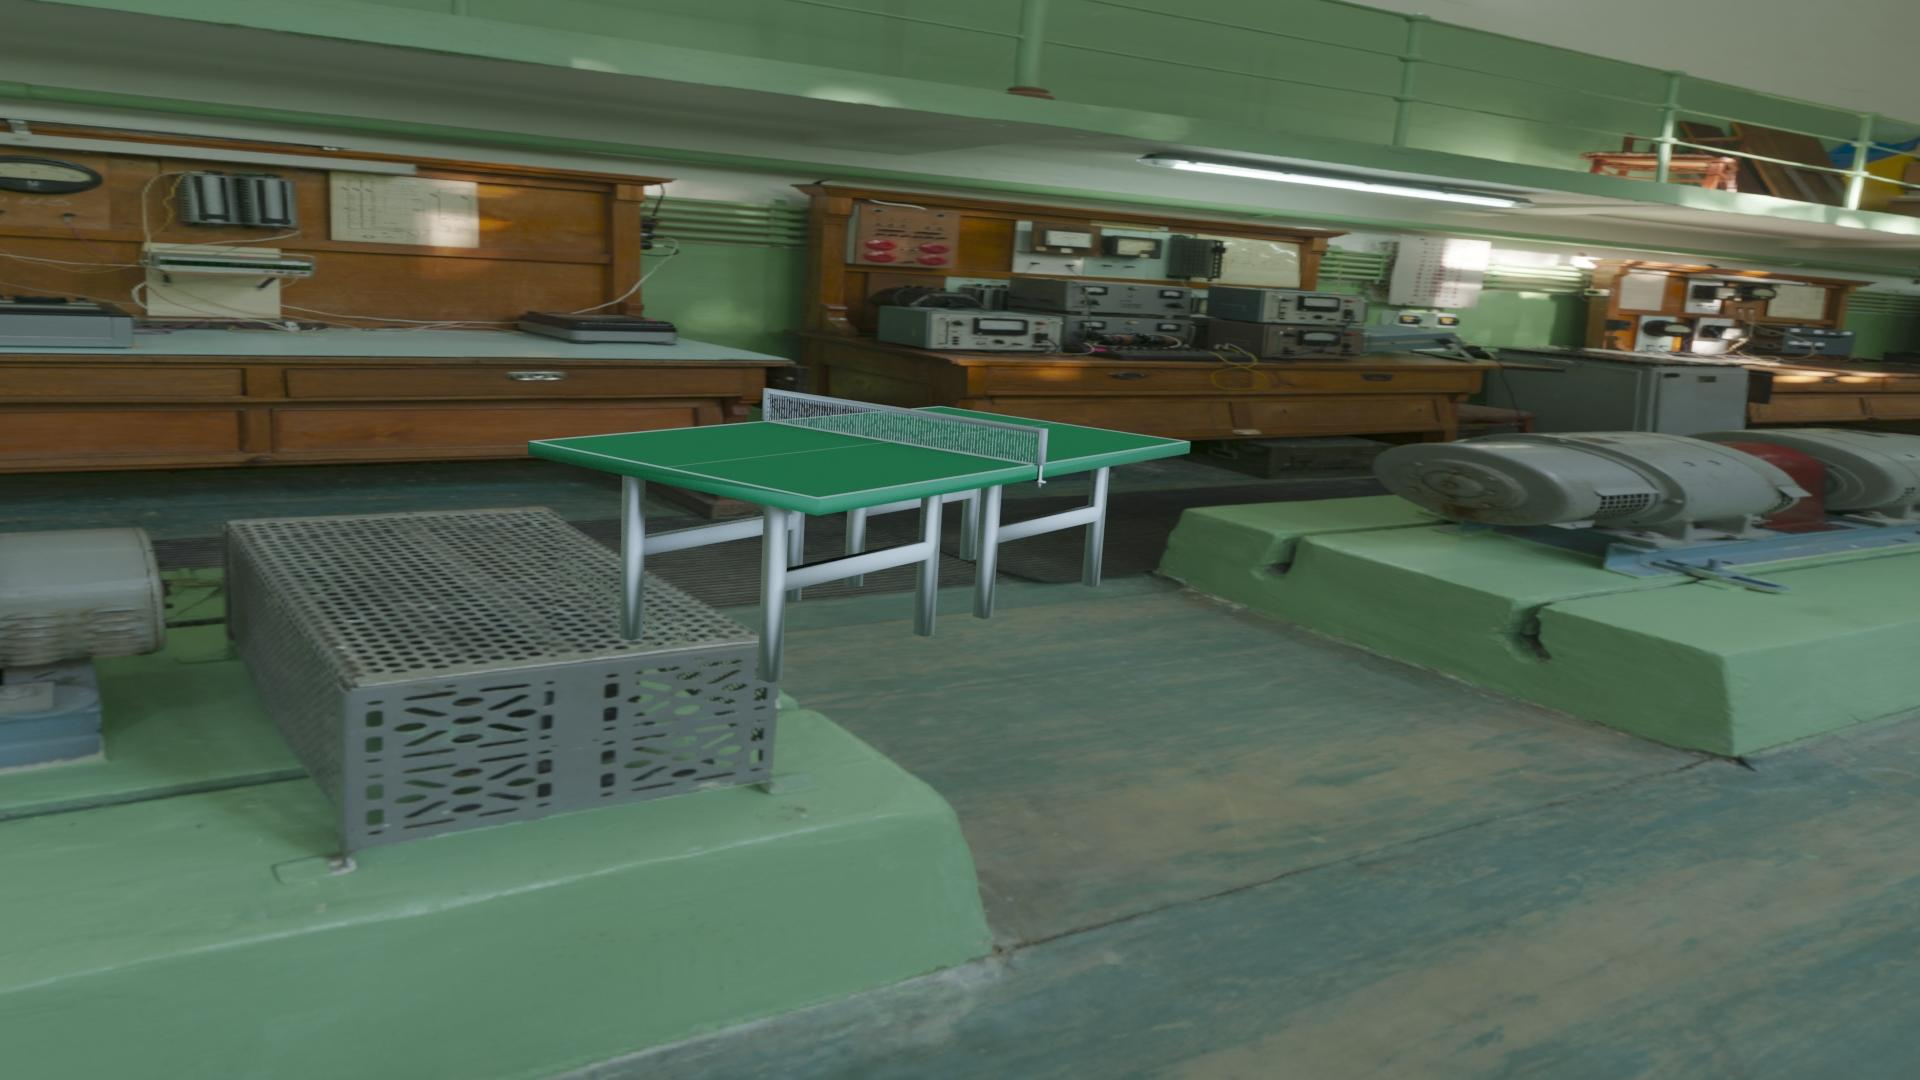table: (535, 407, 1185, 497)
